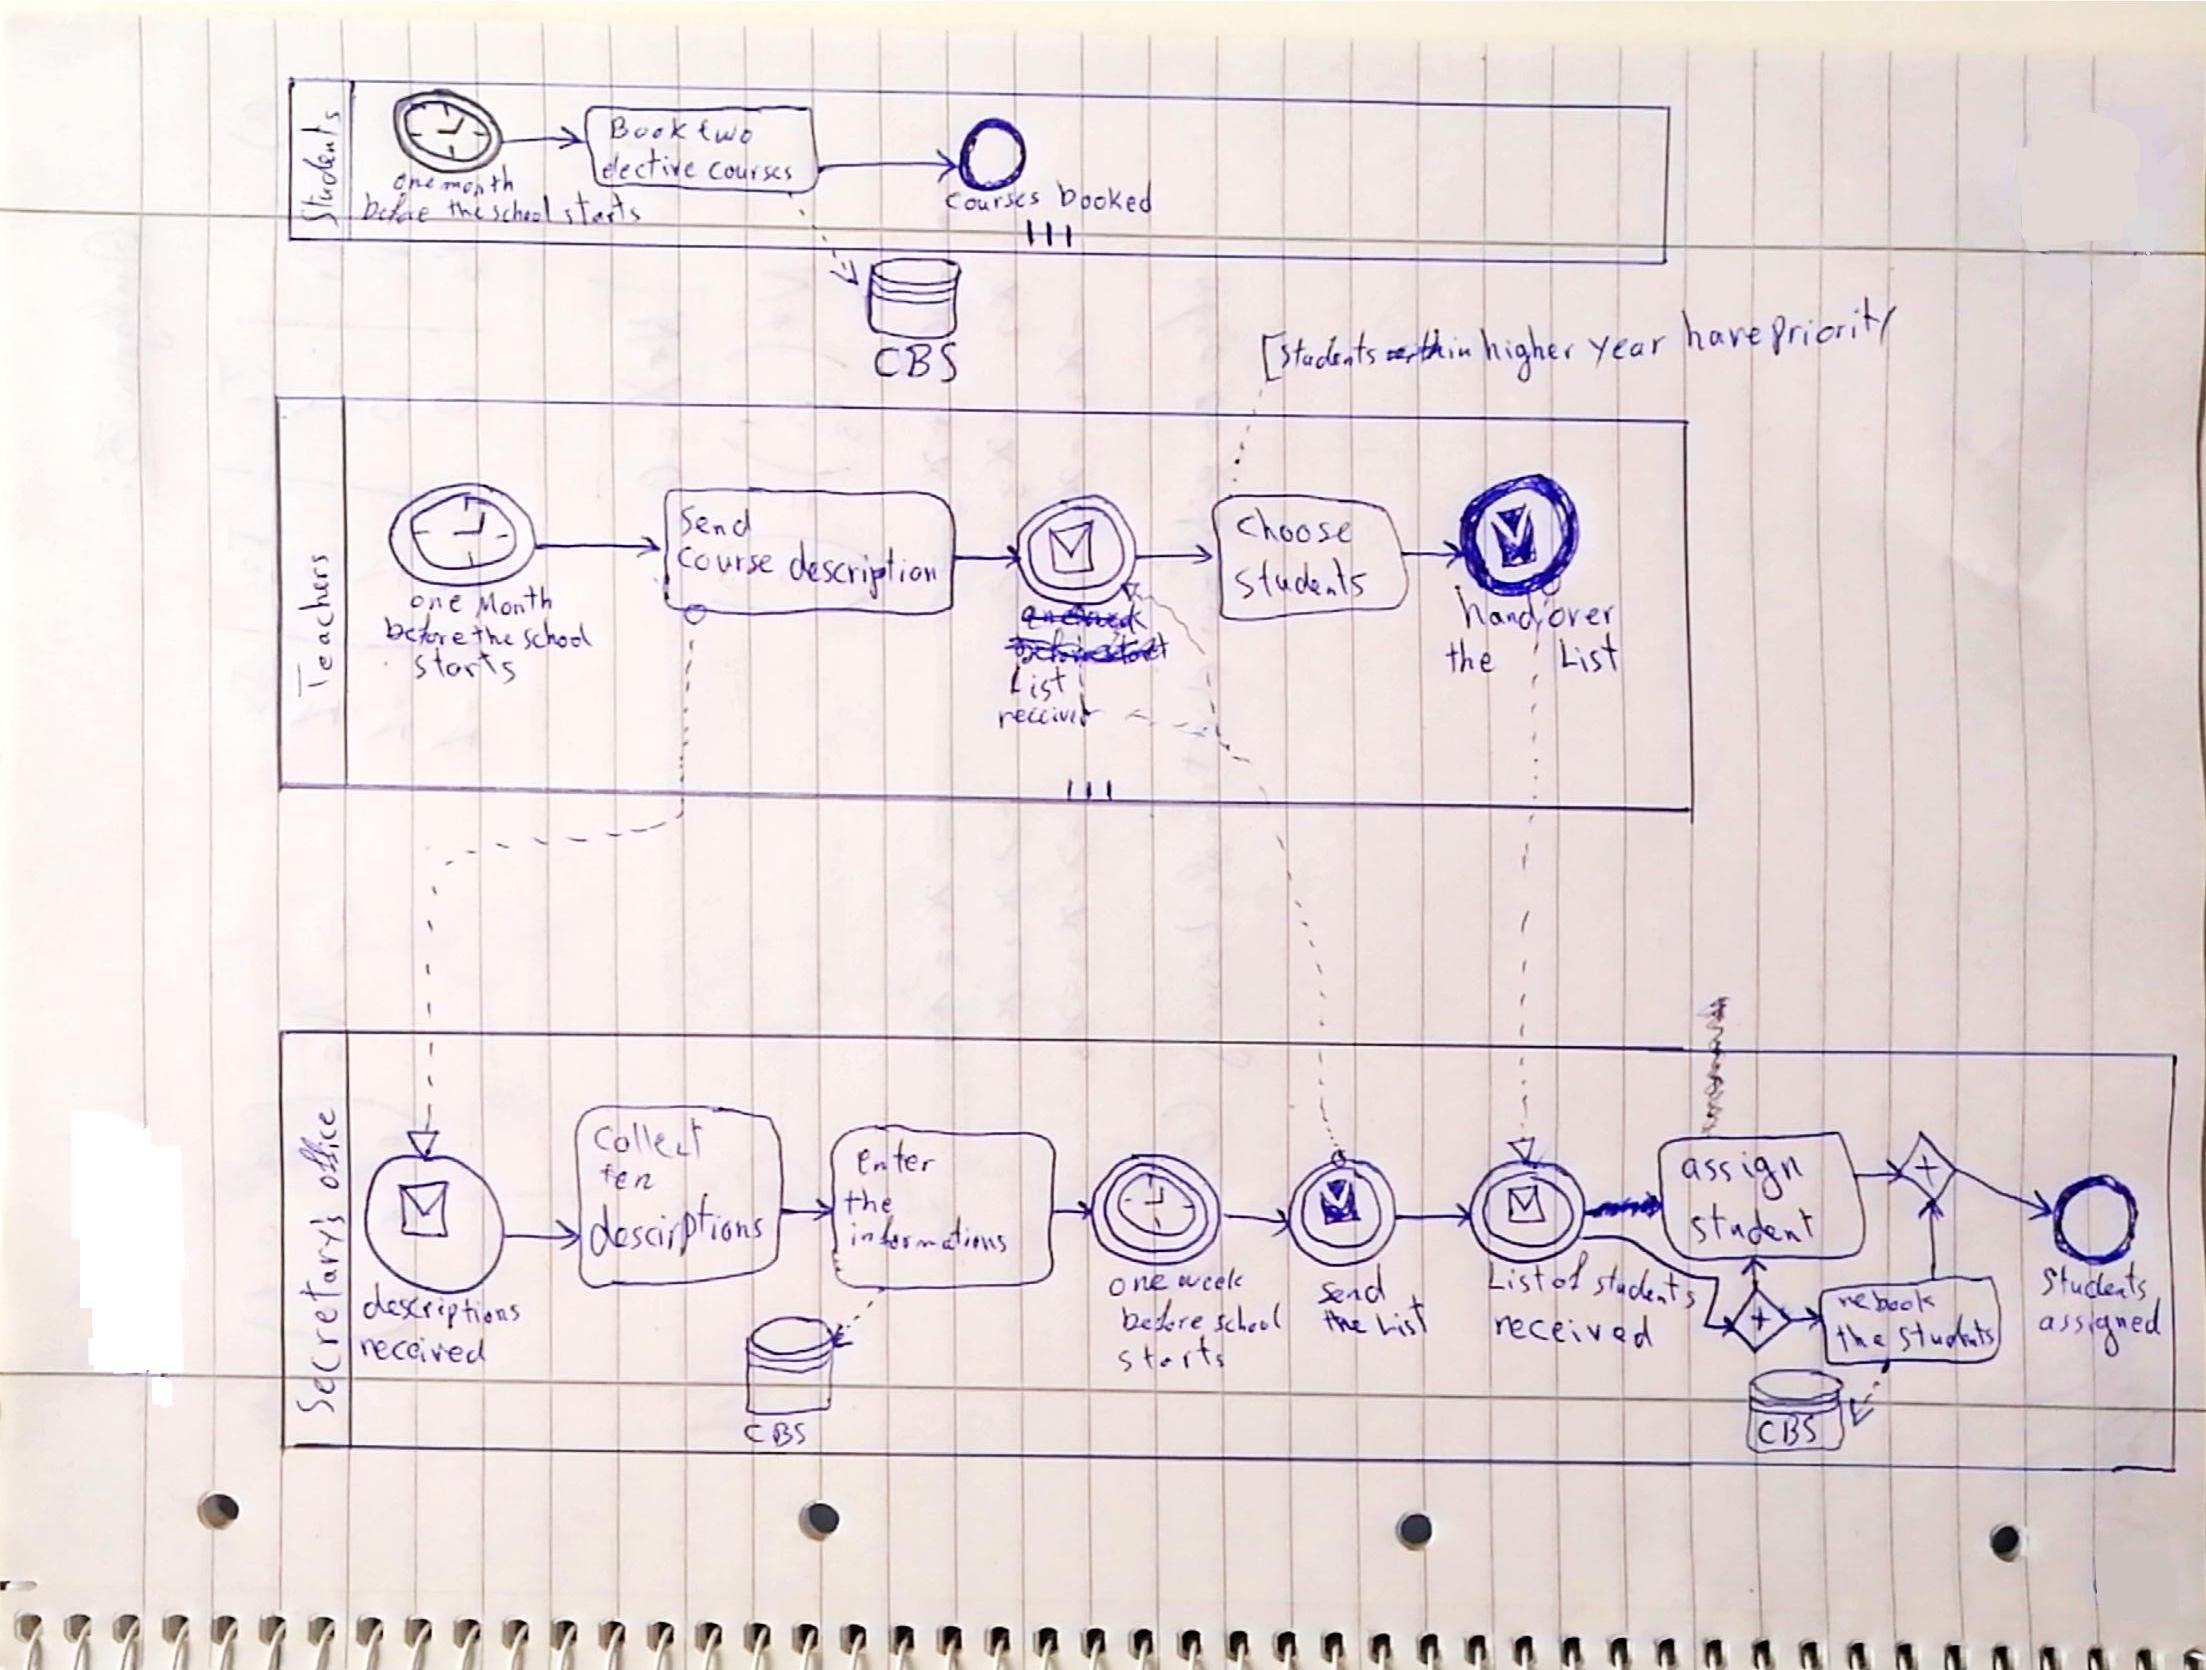Book: (605, 114, 688, 144)
CBS: (874, 343, 960, 384), (1748, 1411, 1823, 1445), (744, 1420, 809, 1447)
III: (1020, 215, 1081, 255), (1064, 771, 1118, 802)
List: (1375, 1295, 1433, 1340), (1556, 633, 1622, 672), (1486, 1258, 1545, 1297), (1006, 665, 1068, 700)
Month: (477, 584, 555, 620)
Secretary's: (295, 1205, 347, 1419)
Send: (679, 502, 754, 538)
Students: (298, 103, 346, 228)
Teachers: (297, 551, 339, 701)
assign: (1677, 1154, 1808, 1200)
assigned: (2037, 1301, 2163, 1355)
before: (1121, 1296, 1205, 1337), (383, 615, 465, 650), (360, 193, 434, 225)
booked: (1058, 180, 1154, 214)
choose: (1234, 504, 1355, 545)
collect: (592, 1116, 701, 1160)
course: (675, 543, 774, 574)
courses: (706, 160, 797, 184), (943, 193, 1044, 214)
description: (787, 540, 939, 599)
descriptions: (589, 1196, 766, 1258), (362, 1280, 527, 1331)
elective: (599, 151, 700, 184)
enter: (853, 1141, 937, 1172)
hand: (1453, 583, 1537, 630)
have: (1682, 304, 1765, 354)
higher: (1476, 323, 1577, 382)
in: (1447, 331, 1474, 366)
informations: (849, 1212, 1009, 1257)
month: (442, 166, 517, 198)
of: (1550, 1252, 1591, 1295)
office: (294, 1105, 347, 1188)
one: (1105, 1269, 1171, 1301), (407, 589, 466, 615), (392, 166, 439, 193)
over: (1547, 603, 1618, 626)
priority: (1768, 298, 1898, 355)
rebook: (1837, 1289, 1936, 1318)
received: (1490, 1311, 1654, 1351), (357, 1333, 489, 1367), (995, 696, 1093, 731)
school: (1211, 1300, 1285, 1338), (522, 617, 597, 650), (489, 192, 558, 224)
send: (1317, 1267, 1390, 1308)
starts: (1114, 1336, 1231, 1375), (410, 648, 519, 687), (557, 191, 643, 228)
student: (1686, 1206, 1819, 1245)
students: (1231, 558, 1373, 598), (1598, 1255, 1711, 1298), (2038, 1262, 2152, 1302), (1897, 1314, 1998, 1354), (1276, 331, 1376, 372)
ten: (601, 1160, 657, 1192)
the: (1443, 636, 1498, 679), (1832, 1317, 1888, 1355), (1321, 1306, 1371, 1342), (842, 1187, 896, 1217), (471, 623, 515, 649), (446, 197, 488, 219)
two: (691, 114, 758, 148)
week: (1177, 1265, 1245, 1298)
year: (1588, 333, 1670, 368)
